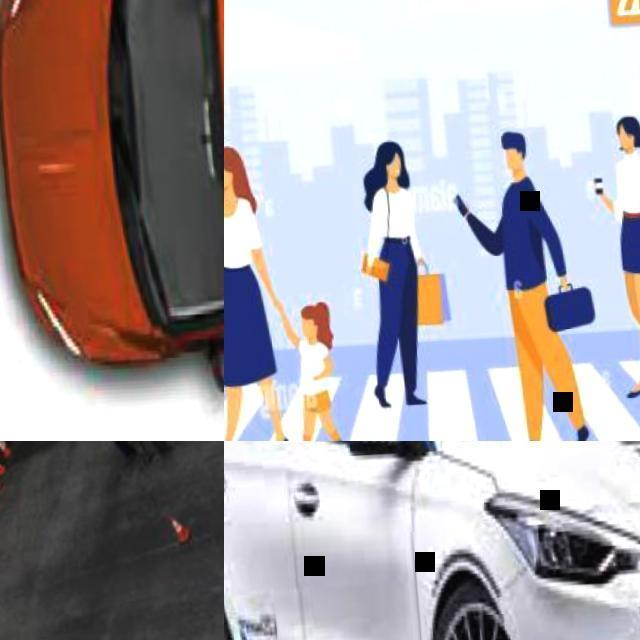car: (74, 0, 639, 639)
